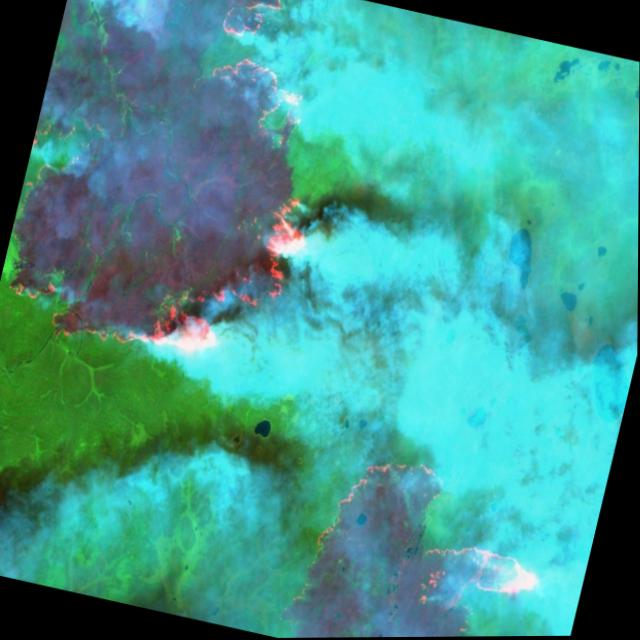fire: (0, 127, 332, 389), (274, 421, 573, 638), (184, 0, 333, 142), (62, 0, 107, 18)
